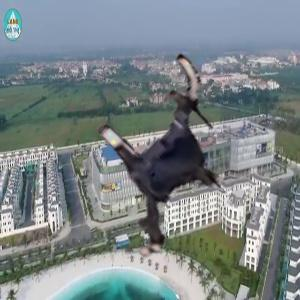drone: (67, 60, 266, 259)
